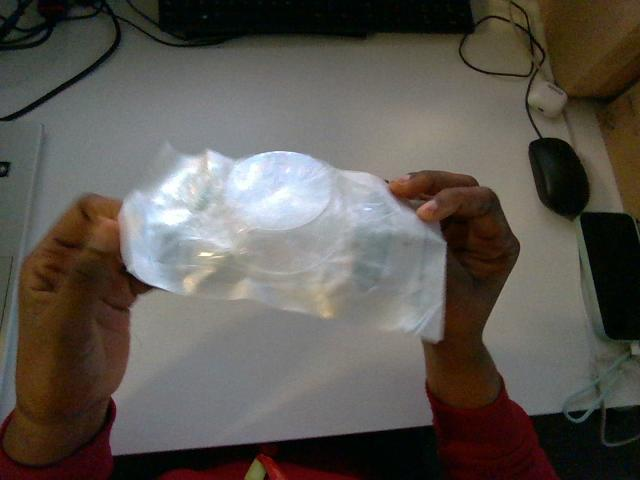gallipot: (120, 147, 445, 341)
